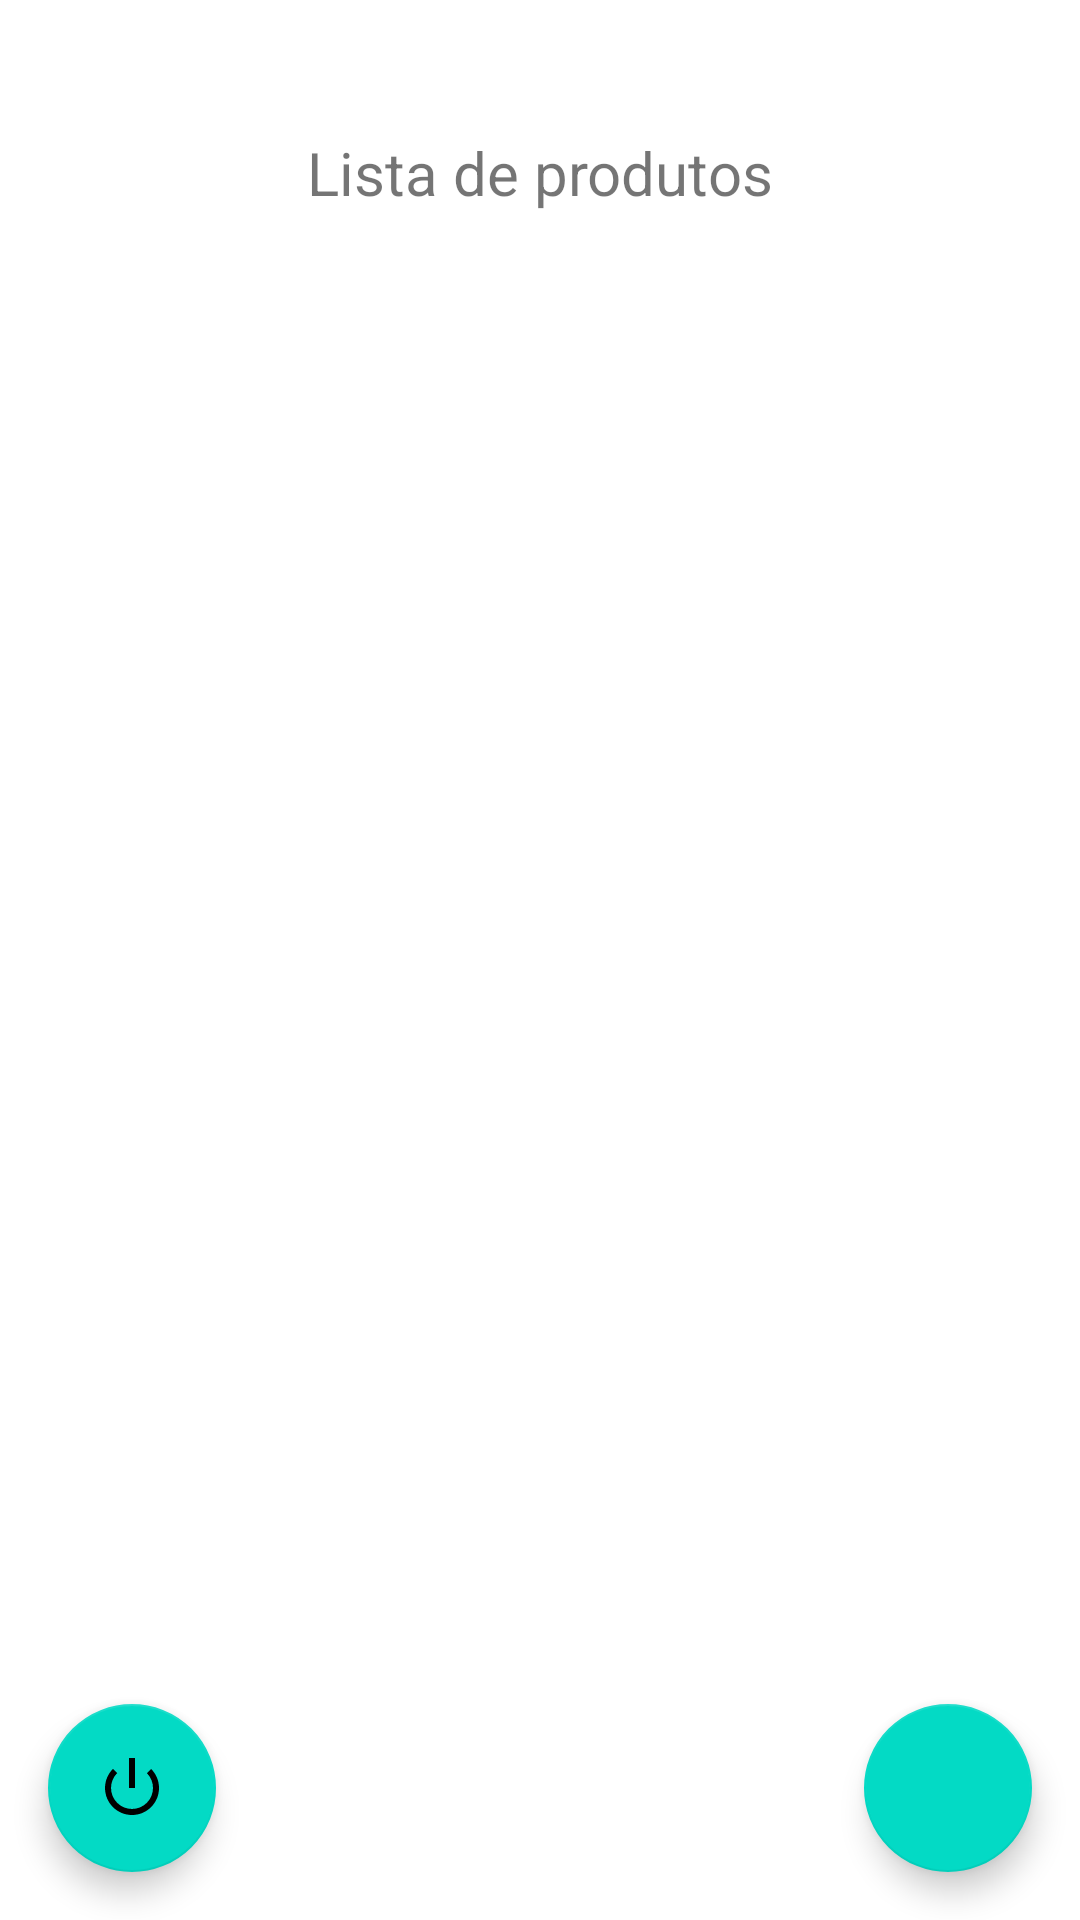

Named icons in this screenshot (1080w x 1920h) and their centers, (x,y):
lock power off: (132,1788)
